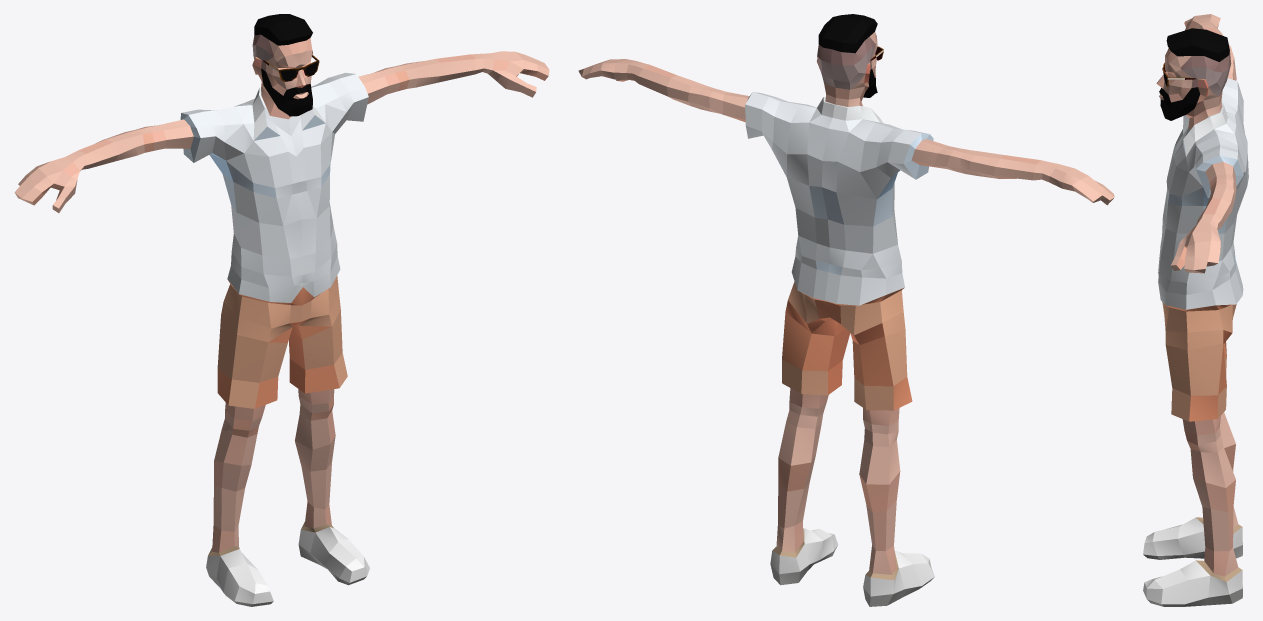
Rendered from casual_Male_J-model.obj.
3 views of the same model, side by side, from view 1: azimuth 30°, elevation 25°; view 2: azimuth 150°, elevation 25°; view 3: azimuth 270°, elevation 25° (orthographic). The views are drawn at different scales.
Parts seen in each view (by area): view 1: casual_Male_J; view 2: casual_Male_J; view 3: casual_Male_J.
Part boxes in pixels (<box>): casual_Male_J: <box>14,14,549,606</box>; casual_Male_J: <box>578,14,1114,606</box>; casual_Male_J: <box>1143,14,1248,606</box>.
Size of the model in its own units: 168 by 169 by 29.83.
